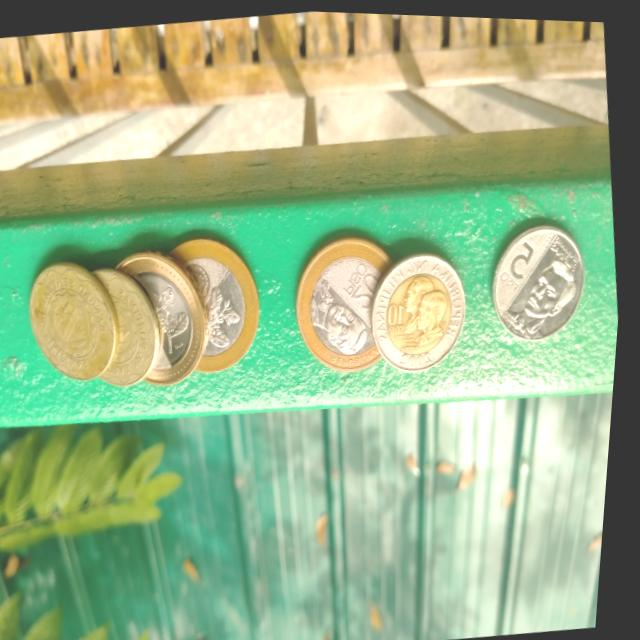10_Old_Front: (379, 285, 420, 340)
20_New_Back: (198, 280, 255, 362), (148, 275, 201, 357)
20_New_Front: (338, 251, 390, 320)
5_New_Front: (495, 227, 550, 293)
5_Old_Back: (23, 254, 132, 384), (96, 274, 164, 383)
